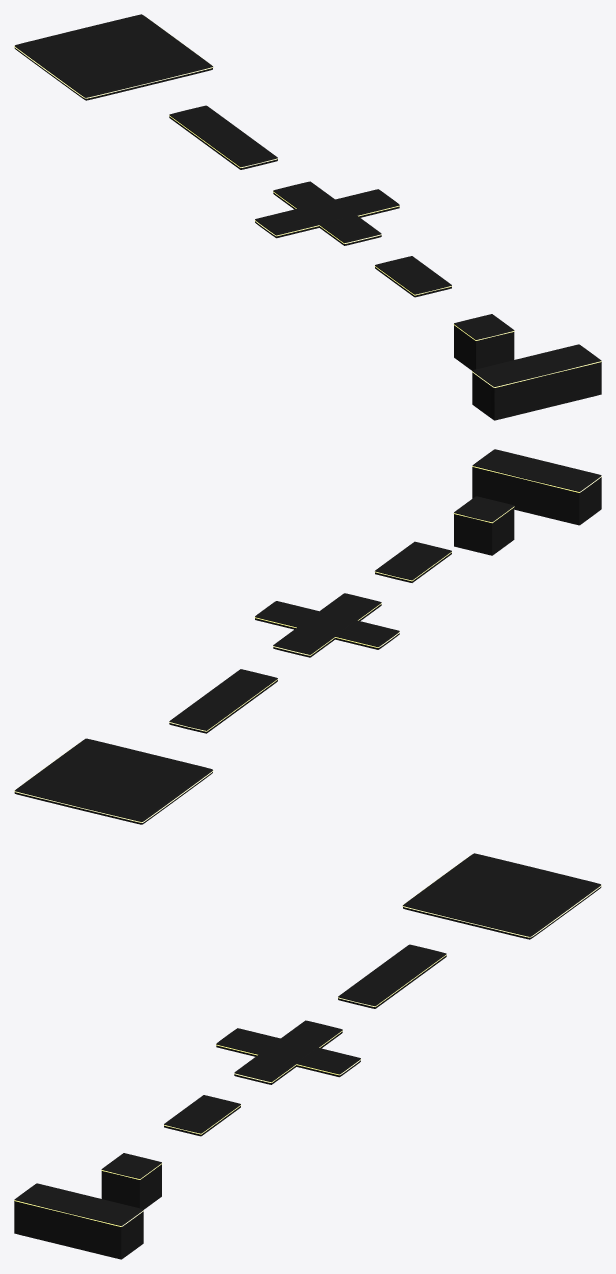
File: main level.fbx
3 renders of one model, top to bottom at view 1: azimuth 30°, elevation 25°; view 2: azimuth 150°, elevation 25°; view 3: azimuth 330°, elevation 25°, orthographic.
Parts seen in each view (by area): view 1: Platform L.009, Platform L.014, Platform L.012, Platform L.010, Platform L.011, Platform L.013; view 2: Platform L.009, Platform L.014, Platform L.012, Platform L.010, Platform L.011, Platform L.013; view 3: Platform L.009, Platform L.014, Platform L.012, Platform L.010, Platform L.011, Platform L.013.
Boxes of the visible parts, left/top/right/bottom form: Platform L.009: left=14, top=14, right=213, bottom=100; Platform L.014: left=472, top=344, right=601, bottom=420; Platform L.012: left=254, top=181, right=399, bottom=245; Platform L.010: left=169, top=105, right=277, bottom=169; Platform L.011: left=453, top=314, right=514, bottom=370; Platform L.013: left=375, top=256, right=451, bottom=297; Platform L.009: left=14, top=738, right=213, bottom=824; Platform L.014: left=472, top=449, right=601, bottom=525; Platform L.012: left=254, top=593, right=399, bottom=657; Platform L.010: left=169, top=669, right=277, bottom=733; Platform L.011: left=453, top=496, right=514, bottom=555; Platform L.013: left=374, top=541, right=451, bottom=582; Platform L.009: left=402, top=853, right=601, bottom=939; Platform L.014: left=14, top=1183, right=143, bottom=1259; Platform L.012: left=216, top=1020, right=361, bottom=1084; Platform L.010: left=338, top=944, right=446, bottom=1008; Platform L.011: left=101, top=1153, right=162, bottom=1209; Platform L.013: left=164, top=1095, right=240, bottom=1136.
Bounding box in the file's own units: 1662 × 417 × 10412.
